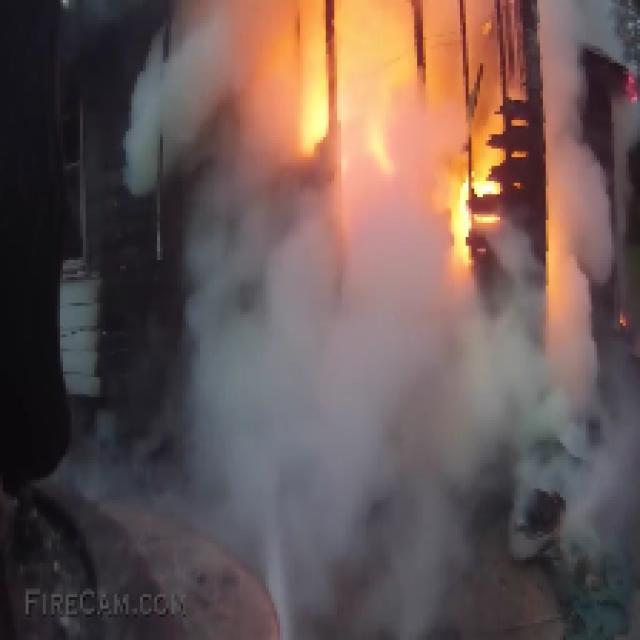Fire: (297, 37, 509, 280)
Smoke: (208, 151, 623, 640)
